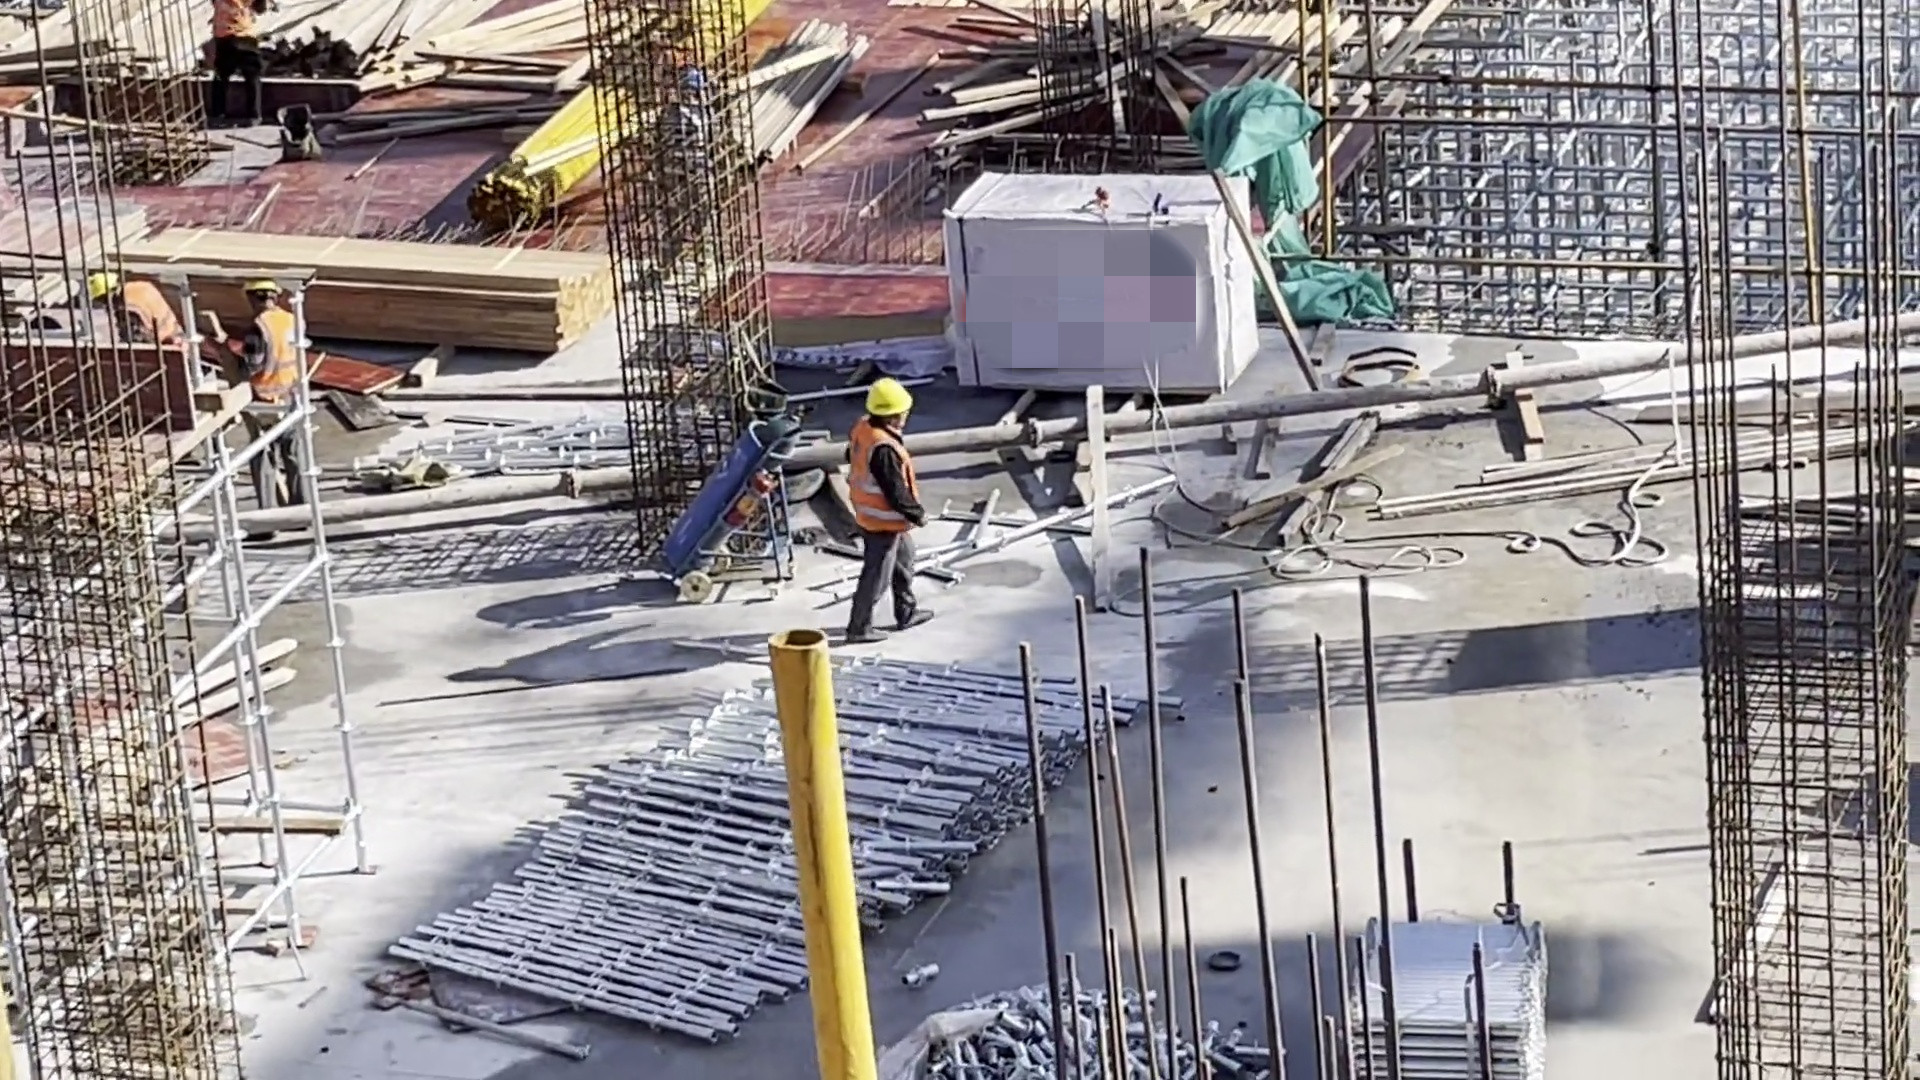helmet: (864, 375, 912, 417), (82, 271, 115, 304)
person: (829, 373, 927, 640), (222, 276, 321, 508), (74, 262, 186, 357), (196, 1, 265, 124)
scaffold: (385, 656, 1110, 1049), (1349, 909, 1556, 1080)
vest: (833, 430, 907, 537), (250, 308, 312, 398), (114, 280, 174, 345), (207, 1, 254, 38)
wood: (315, 229, 617, 364), (273, 1, 626, 82)
